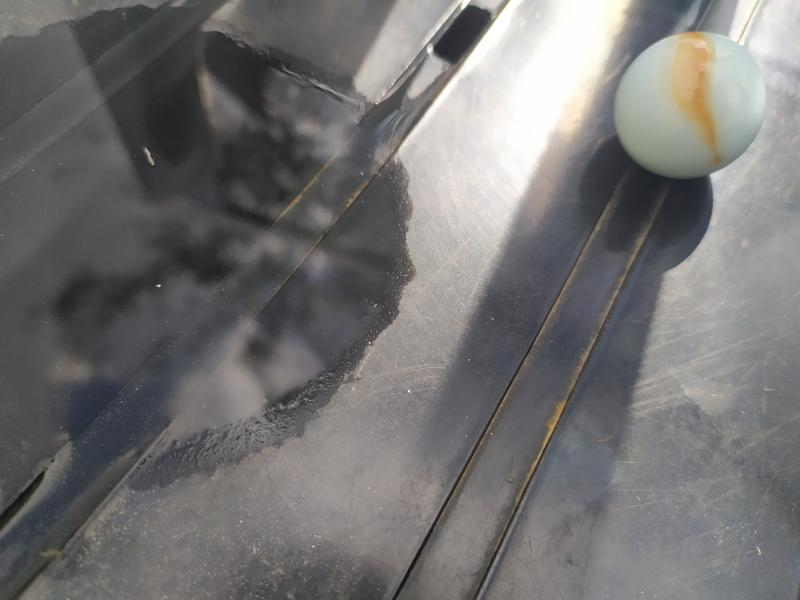Warning: (609, 27, 772, 182)
